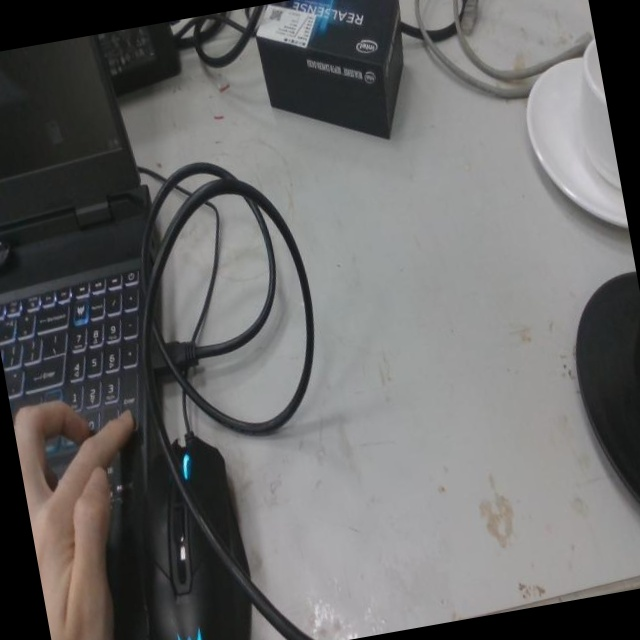black: (581, 268, 640, 559)
white: (527, 36, 613, 245)
